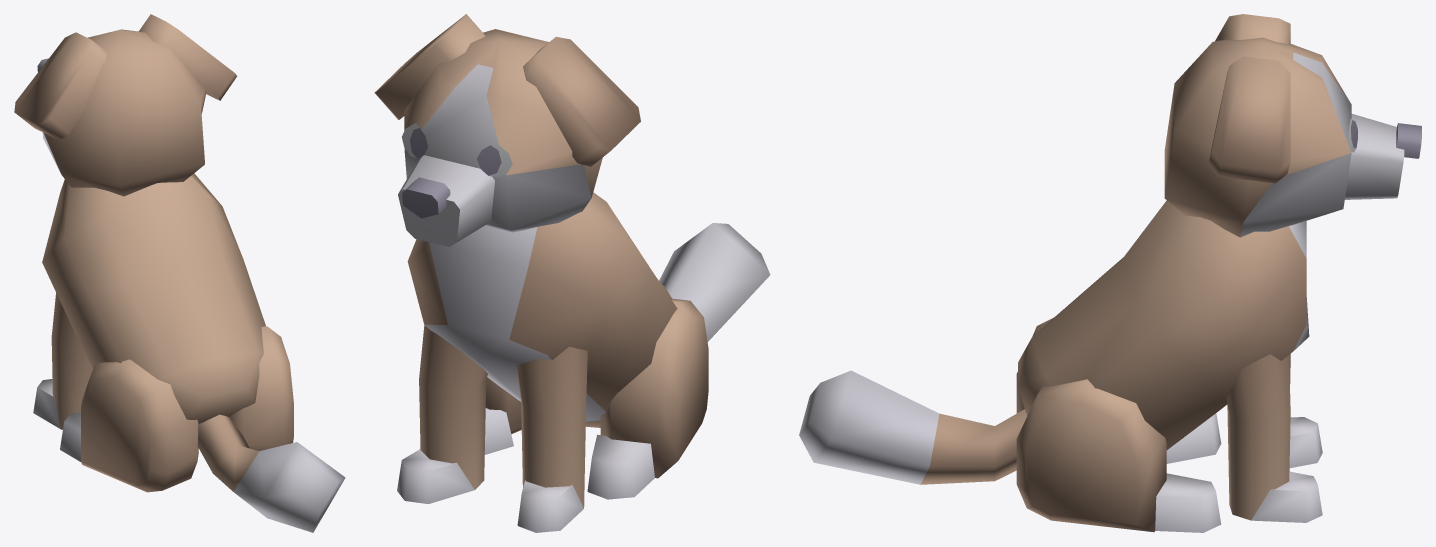
File: dog-large-sitting.glb
The picture shows the model from 3 angles, left to right: view 1: azimuth 30°, elevation 25°; view 2: azimuth 150°, elevation 25°; view 3: azimuth 270°, elevation 25°; orthographic projection. The views are drawn at different scales.
Visible parts, largest first — view 1: dog-large-sitting; view 2: dog-large-sitting; view 3: dog-large-sitting.
Boxes of the visible parts, x1,y1,x2,y2 form: dog-large-sitting: (14, 14, 345, 532); dog-large-sitting: (374, 14, 770, 532); dog-large-sitting: (799, 14, 1421, 532).
Bounding box in the file's own units: 0.2203 × 0.4106 × 0.5155.
